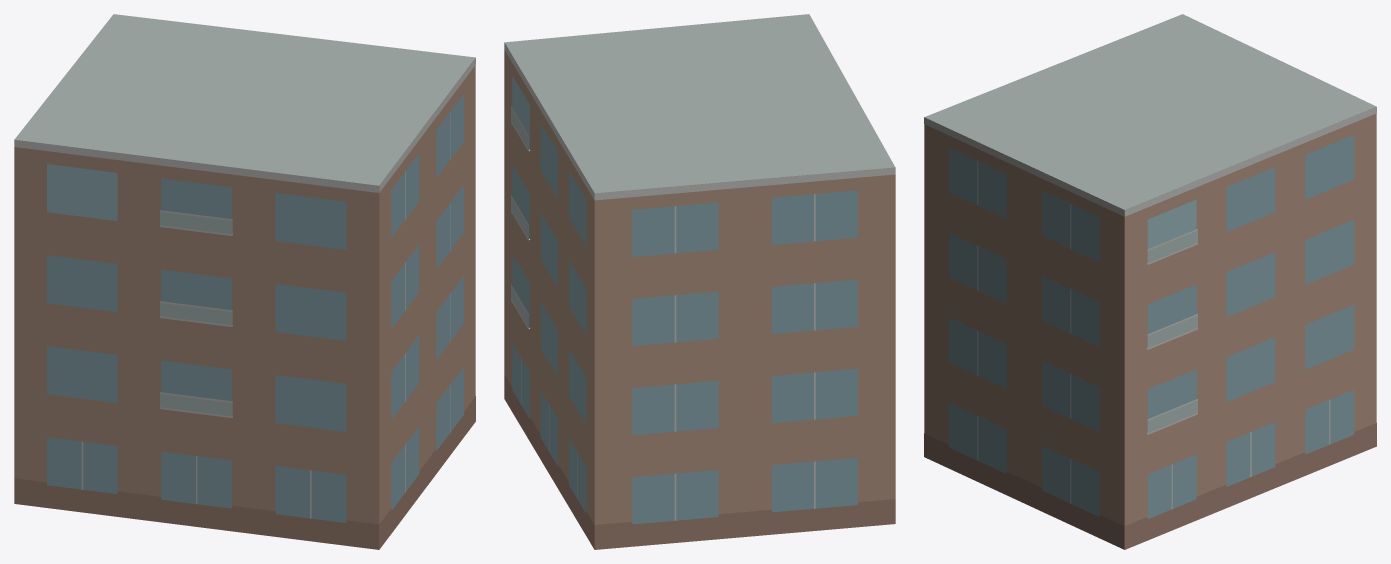
File: survey-upis-32856281.glb
3 views of the same model, side by side, from view 1: azimuth 30°, elevation 25°; view 2: azimuth 150°, elevation 25°; view 3: azimuth 270°, elevation 25° (orthographic). The views are drawn at different scales.
Visible parts, largest first — view 1: survey-upis-32856281.tmp; view 2: survey-upis-32856281.tmp; view 3: survey-upis-32856281.tmp.
Boxes of the visible parts, box(x1,y1,x2,y2) form: survey-upis-32856281.tmp: box(14, 14, 475, 549); survey-upis-32856281.tmp: box(504, 14, 895, 549); survey-upis-32856281.tmp: box(924, 14, 1376, 549).
Size of the model in its own units: 15.1 by 12.2 by 14.73.
